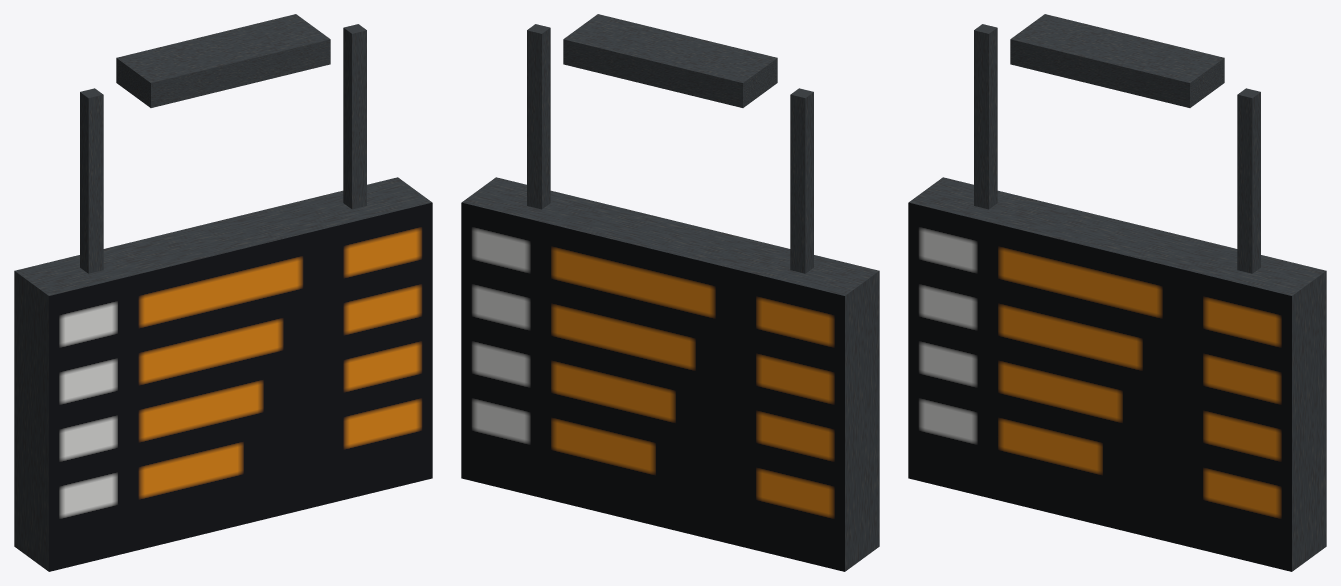
The model's file is anzeige_decke_h5.glb.
The picture shows the model from 3 angles, left to right: view 1: azimuth 30°, elevation 25°; view 2: azimuth 150°, elevation 25°; view 3: azimuth 330°, elevation 25°; orthographic projection.
Parts seen in each view (by area): view 1: H5; view 2: H5; view 3: H5.
Part boxes in pixels (left/top/right/bottom): H5: left=14, top=14, right=432, bottom=571; H5: left=461, top=14, right=879, bottom=571; H5: left=908, top=14, right=1326, bottom=571.
Bounding box in the file's own units: 0.64 × 0.74 × 0.1.
1 material, 1 textured.
